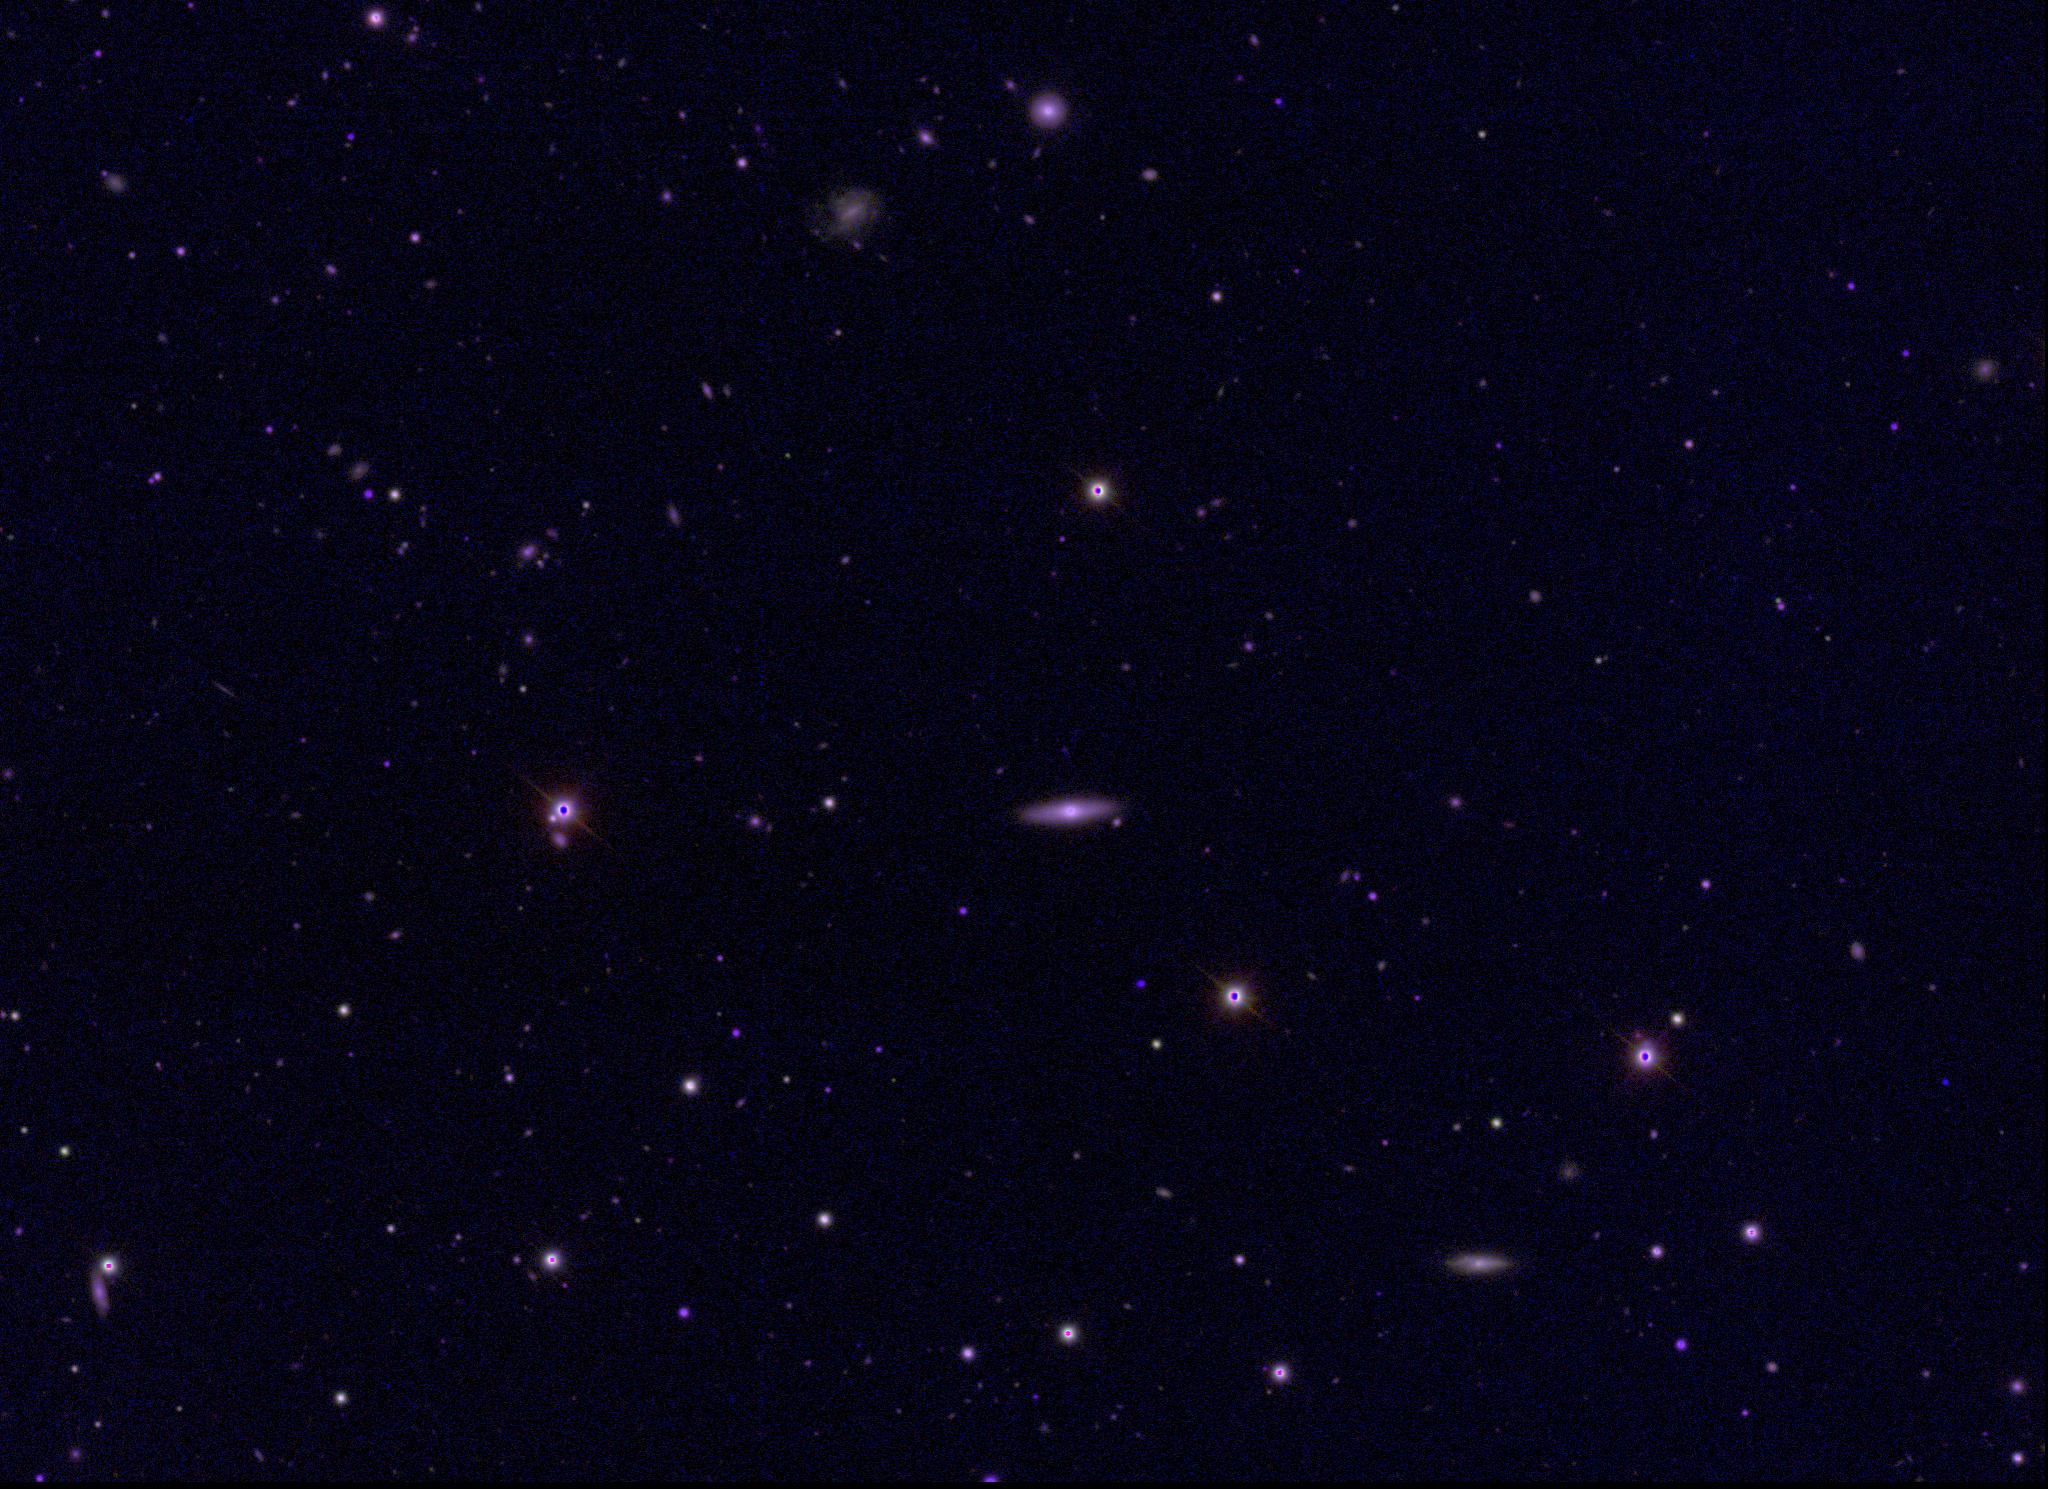L: (1938, 1075, 1953, 1090)
